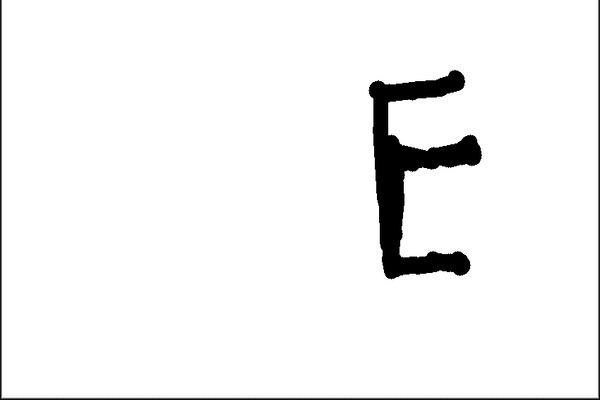E: (362, 67, 487, 282)
